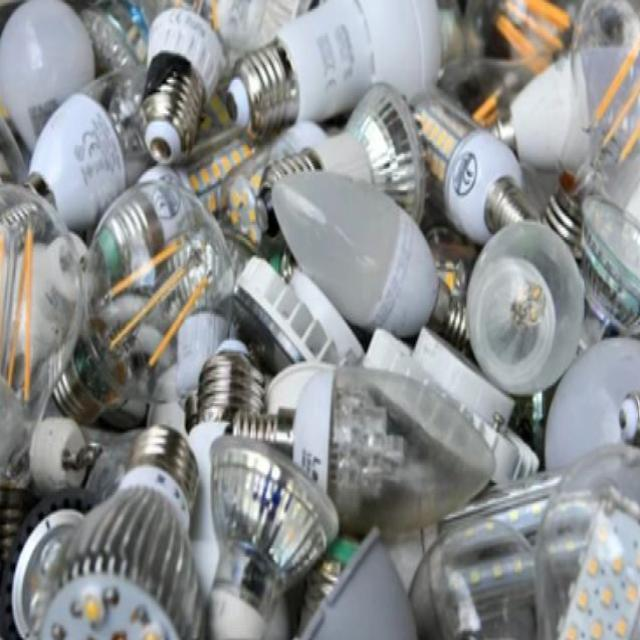electronic: (0, 0, 639, 638), (290, 364, 497, 539), (270, 168, 439, 338), (464, 218, 585, 396), (0, 0, 95, 152)
